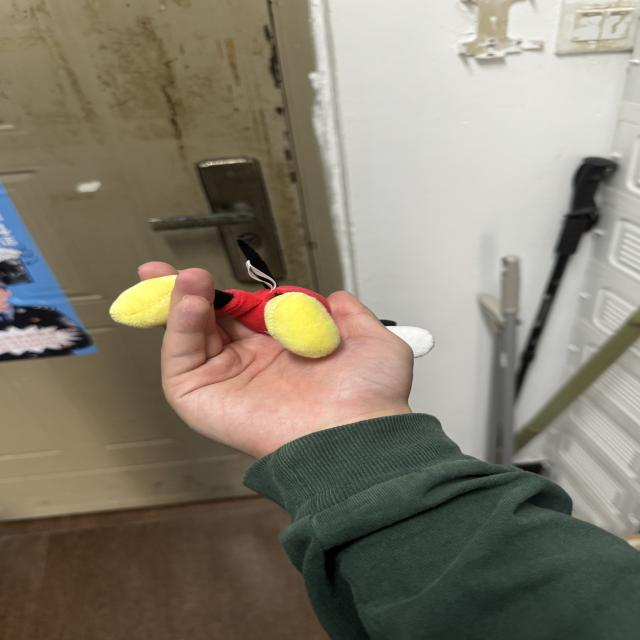mickey: (210, 240, 340, 358), (212, 240, 340, 357)
